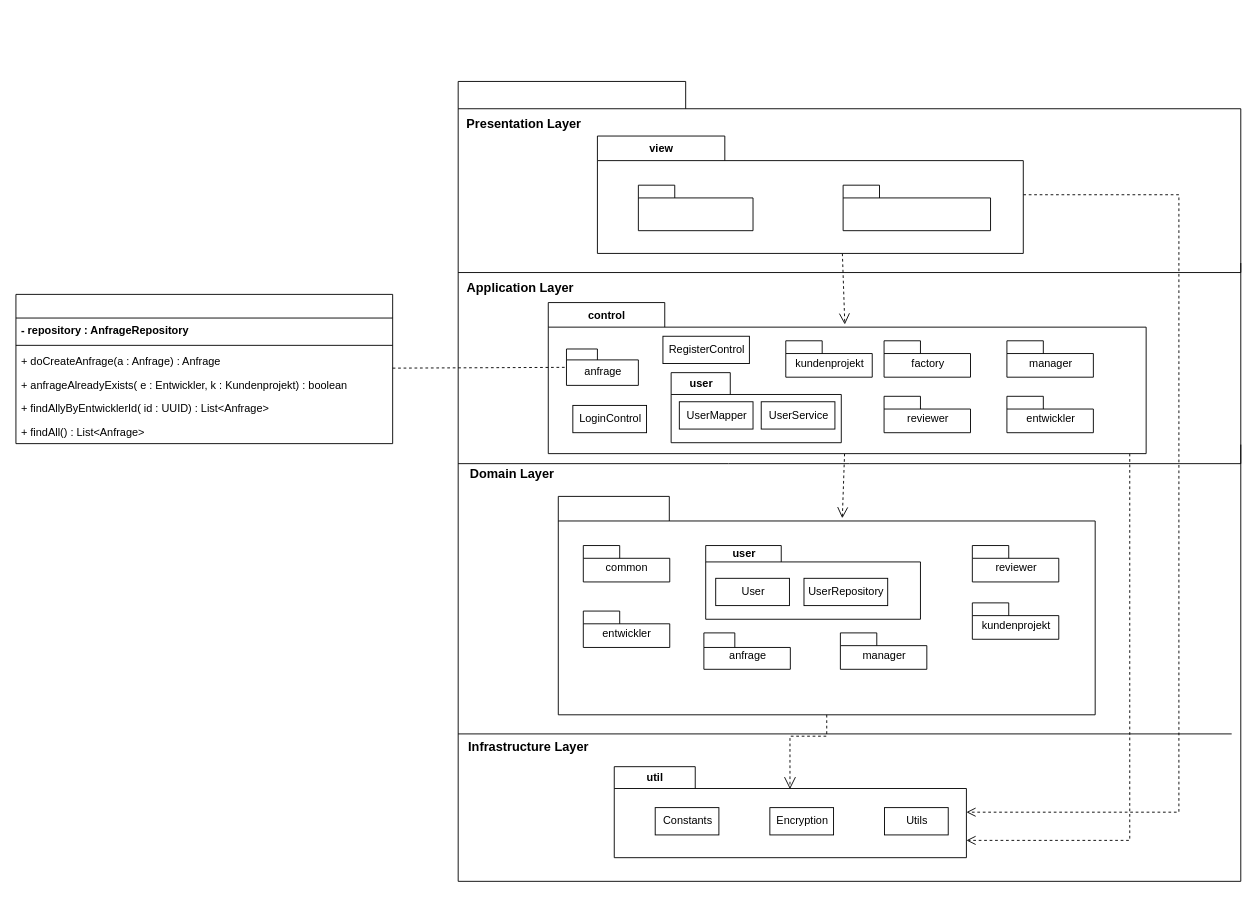
This 1258x897 diagram has some shape labels left out. The box of each missing label's shape, as (x1, y1, x2, y2) in pixels:
AnfrageService: (15, 293, 393, 444)
common.layouts: (637, 184, 753, 231)
model: (557, 495, 1095, 715)
org.hbrs.project.wram: (457, 81, 1241, 881)
routes: (842, 184, 991, 231)
